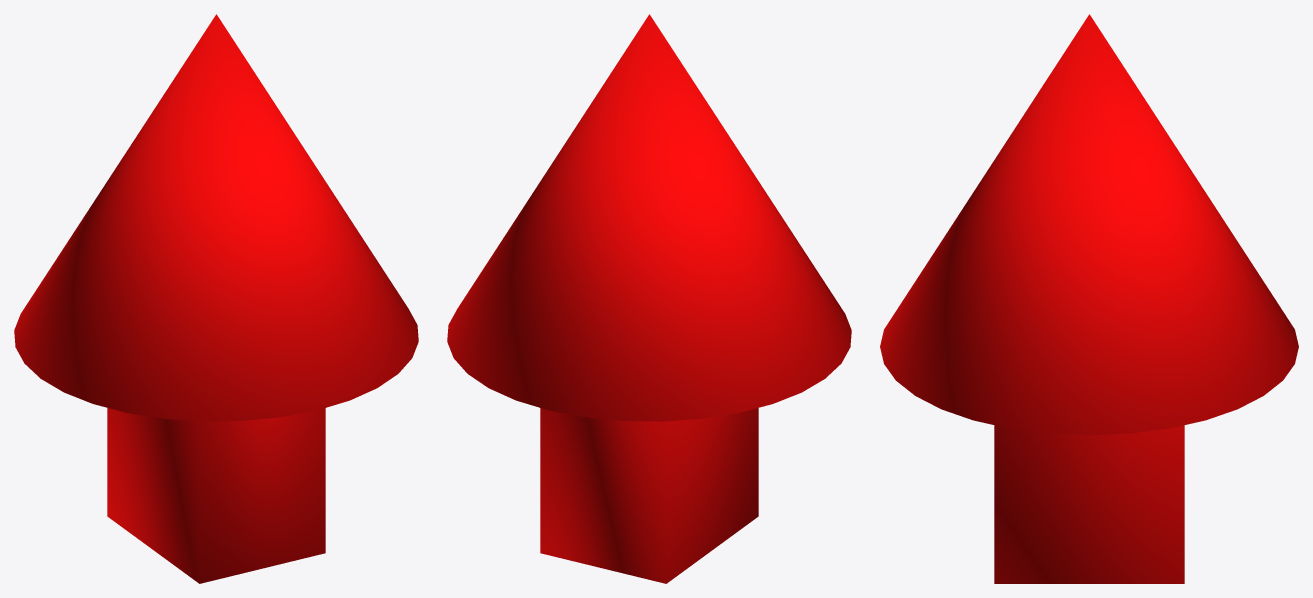
Rendered from propertyArrow.obj.
3 renders of one model, left to right at view 1: azimuth 30°, elevation 25°; view 2: azimuth 150°, elevation 25°; view 3: azimuth 270°, elevation 25°, orthographic. The views are drawn at different scales.
Visible parts, largest first — view 1: 立方体; view 2: 立方体; view 3: 立方体.
Boxes of the visible parts, box(x1,y1,x2,y2) form: 立方体: box(14, 14, 418, 583); 立方体: box(447, 14, 851, 583); 立方体: box(880, 14, 1298, 583).
Bounding box in the file's own units: 4.35 × 6.16 × 4.35.
1 material, 1 textured.
